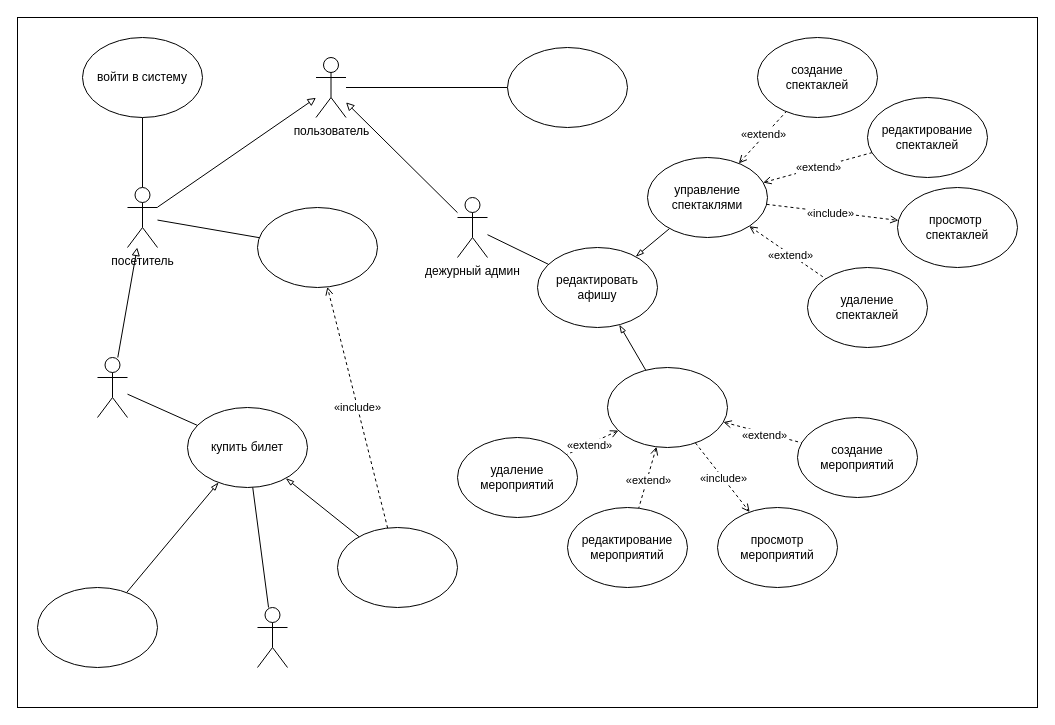
The diagram is 1055 pixels wide and 725 high, and some of its shapes have lost their labels. Each missing label, with the box of its shape:
оплата картой: (36, 586, 158, 668)
оплата по номеру телефона: (336, 526, 458, 608)
плетежная система: (256, 606, 288, 668)
подтвердить номер телефона: (256, 206, 378, 288)
покупатель: (96, 356, 128, 418)
посмотреть афишу: (506, 46, 628, 128)
управление мероприятиями: (606, 366, 728, 448)
